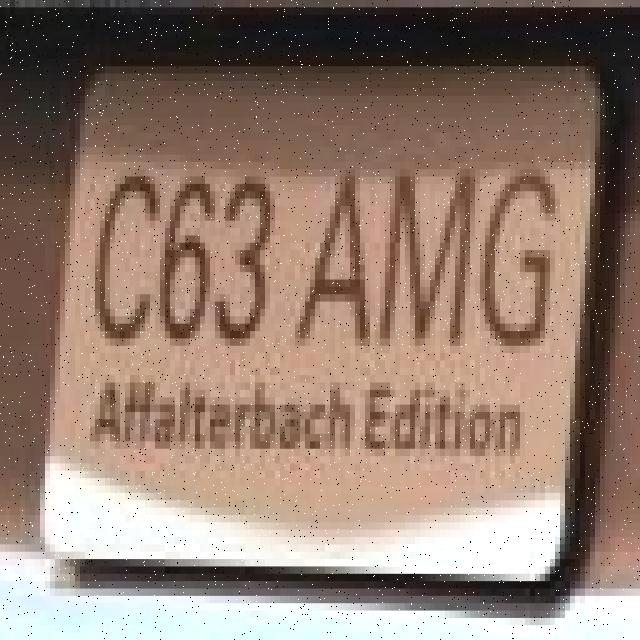licenseplate: (38, 26, 592, 612)
